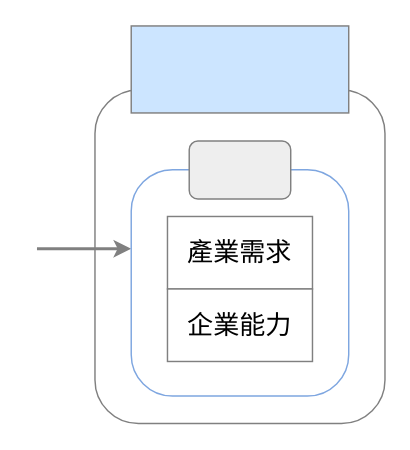
This 410x450 diagram has some shape labels left out. Each missing label, with the centre of its shape:
"科技可供性制定" belongs at pixel 239 69.
"認知" belongs at pixel 239 169.
